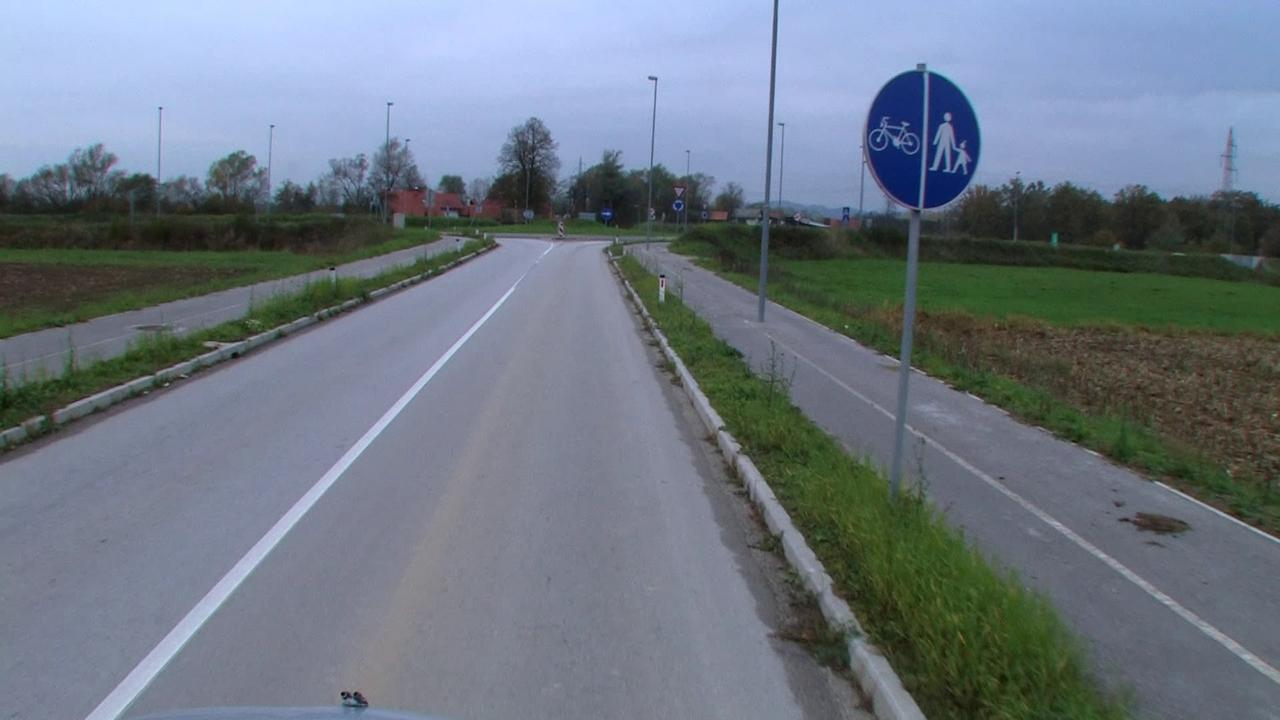Round: (861, 70, 983, 214), (671, 199, 684, 213)
Triangle: (674, 182, 686, 198)
